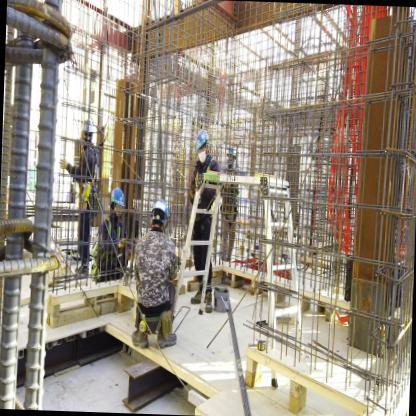safety-shoe: (155, 328, 179, 351), (129, 326, 151, 348), (203, 291, 215, 316)
